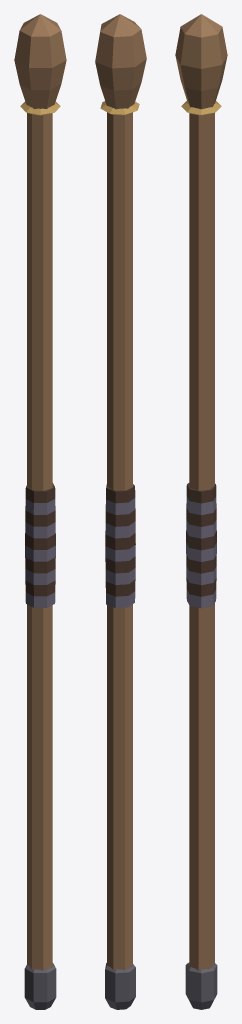
Rendered from staff.glb.
3 views of the same model, side by side, from view 1: azimuth 90°, elevation 25°; view 2: azimuth 150°, elevation 25°; view 3: azimuth 270°, elevation 25° (orthographic).
Parts seen in each view (by area): view 1: staff; view 2: staff; view 3: staff.
Part boxes in pixels (x1,y1,x2,y2): staff: [14, 14, 66, 1009]; staff: [95, 14, 146, 1009]; staff: [175, 14, 227, 1009].
Bounding box in the file's own units: 0.095 × 2.04 × 0.0975.
